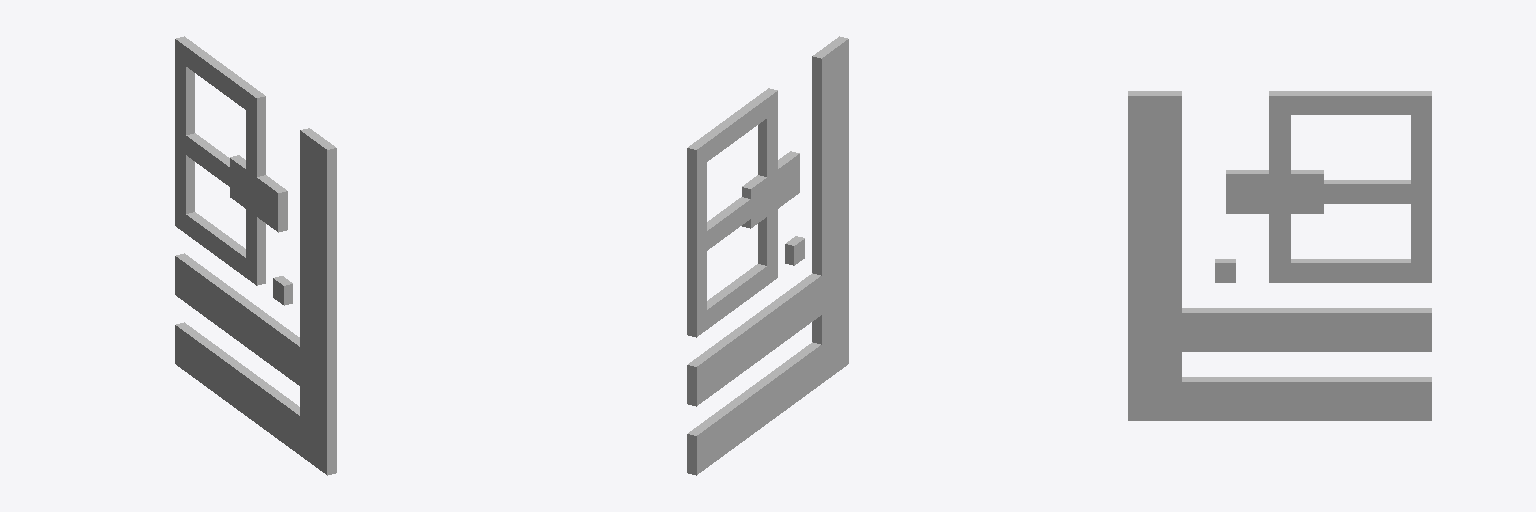
File: Factory Bits-4-Rune 6.obj
The picture shows the model from 3 angles: view 1: azimuth 30°, elevation 25°; view 2: azimuth 150°, elevation 25°; view 3: azimuth 270°, elevation 25°; orthographic projection.
Parts seen in each view (by area): view 1: Rune 6; view 2: Rune 6; view 3: Rune 6.
Boxes of the visible parts, <box> form: Rune 6: <box>175,36,336,475</box>; Rune 6: <box>687,36,848,475</box>; Rune 6: <box>1128,91,1431,420</box>.
Size of the model in its own units: 0.1 by 3.3 by 2.8.